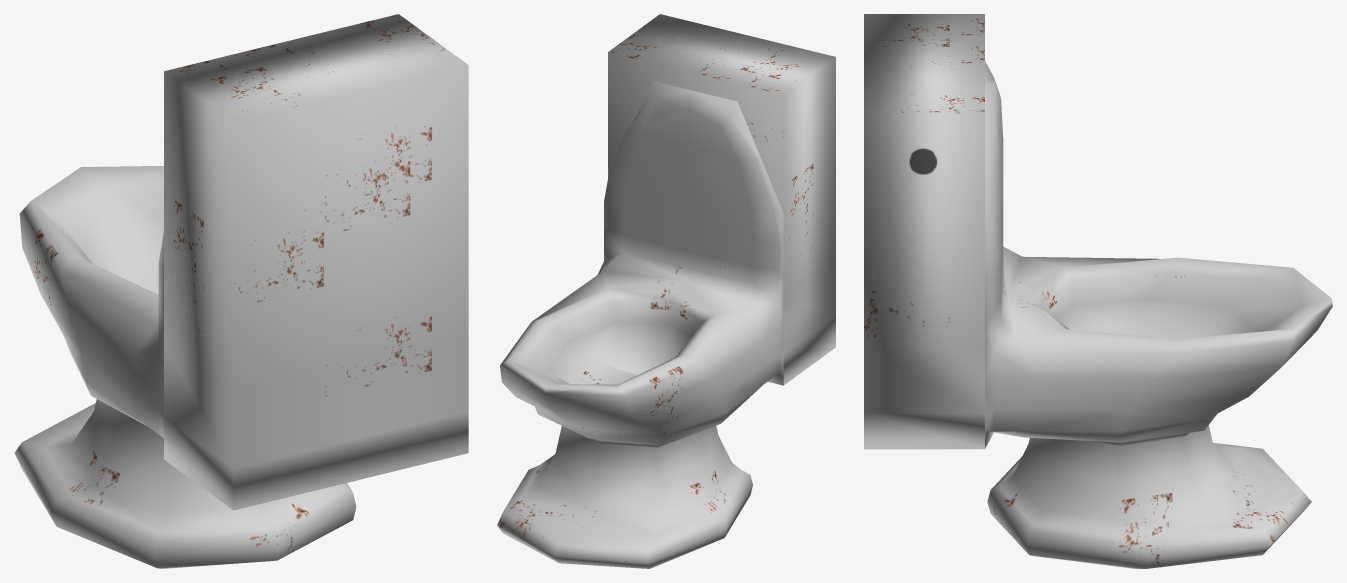
The model's file is PrivadaRE1.fbx.
The picture shows the model from 3 angles, left to right: view 1: azimuth 30°, elevation 25°; view 2: azimuth 150°, elevation 25°; view 3: azimuth 270°, elevation 25°; orthographic projection. The views are drawn at different scales.
Visible parts, largest first — view 1: Privada; view 2: Privada; view 3: Privada.
Part boxes in pixels (left/top/right/bottom): Privada: left=14, top=14, right=468, bottom=568; Privada: left=497, top=14, right=835, bottom=568; Privada: left=864, top=14, right=1332, bottom=568.
Bounding box in the file's own units: 1.23 × 2.3 × 2.15.
1 material, 1 textured.
